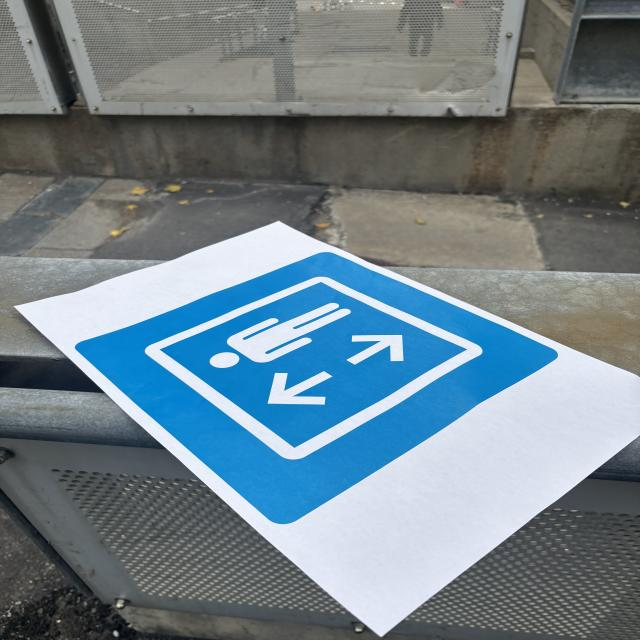elevator: (72, 253, 562, 526)
